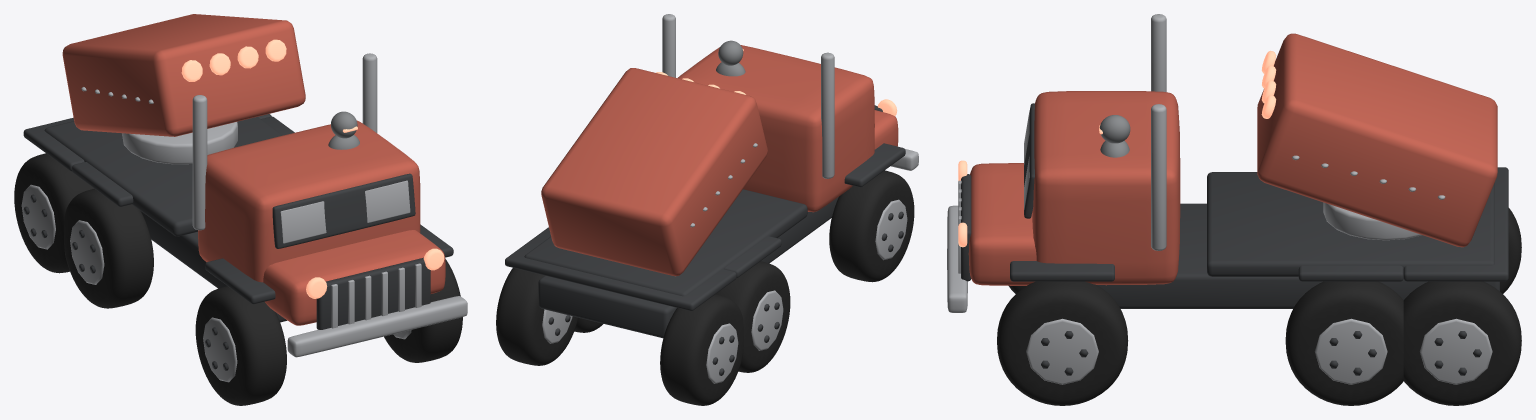
Rendered from vehicle_launcher.glb.
3 views of the same model, side by side, from view 1: azimuth 30°, elevation 25°; view 2: azimuth 150°, elevation 25°; view 3: azimuth 270°, elevation 25° (orthographic). The views are drawn at different scales.
Visible parts, largest first — view 1: Cube.019, Cube.001, Cube.018, Cylinder.011, Cylinder.025, Cube.002, Cube.013, Cylinder.039, Cube.006, Cube.003, Cylinder.004, Cylinder.041 (+12 smaller); view 2: Cube.019, Cube.001, Cube.018, Cylinder.039, Cylinder.011, Cube, Cylinder.032, Cube.016, Cylinder.025, Cylinder.003, Cylinder.010, Cylinder.022 (+8 smaller); view 3: Cube.019, Cube.001, Cube.018, Cylinder.004 (×2), Cylinder.032, Cylinder.018, Cube, Cube.002, Cylinder.028, Cylinder.016, Cube.016, Cylinder.001 (+9 smaller).
Boxes of the visible parts, <box> form: Cube.019: <box>62,14,305,136</box>; Cube.001: <box>198,120,420,282</box>; Cube.018: <box>44,117,282,236</box>; Cylinder.011: <box>195,286,286,405</box>; Cylinder.025: <box>64,188,153,308</box>; Cube.002: <box>263,230,445,325</box>; Cube.013: <box>287,296,467,357</box>; Cylinder.039: <box>14,153,93,273</box>; Cube.006: <box>316,257,430,329</box>; Cube.003: <box>272,173,415,248</box>; Cylinder.004: <box>384,259,462,362</box>; Cylinder.041: <box>122,122,237,164</box>; Cube.019: <box>541,68,767,276</box>; Cube.001: <box>677,45,874,212</box>; Cube.018: <box>524,189,807,296</box>; Cylinder.039: <box>660,294,743,405</box>; Cylinder.011: <box>829,170,914,282</box>; Cube: <box>538,197,838,338</box>; Cylinder.032: <box>496,268,578,365</box>; Cube.016: <box>505,227,736,310</box>; Cylinder.025: <box>716,261,790,372</box>; Cylinder.003: <box>821,52,834,178</box>; Cylinder.010: <box>875,199,907,260</box>; Cylinder.022: <box>751,290,783,350</box>; Cube.019: <box>1257,33,1497,247</box>; Cube.001: <box>1032,91,1180,285</box>; Cube.018: <box>1207,172,1494,276</box>; Cylinder.004 (×2): <box>997,281,1128,405</box>; Cylinder.032: <box>1403,281,1521,405</box>; Cylinder.018: <box>1285,281,1403,405</box>; Cube: <box>1097,203,1499,308</box>; Cube.002: <box>968,163,1036,285</box>; Cylinder.028: <box>1420,318,1492,384</box>; Cylinder.016: <box>1315,318,1387,384</box>; Cube.016: <box>1403,167,1508,281</box>; Cylinder.001: <box>1151,104,1166,250</box>.
Bounding box in the file's own units: 1.61 × 1.85 × 3.28.
